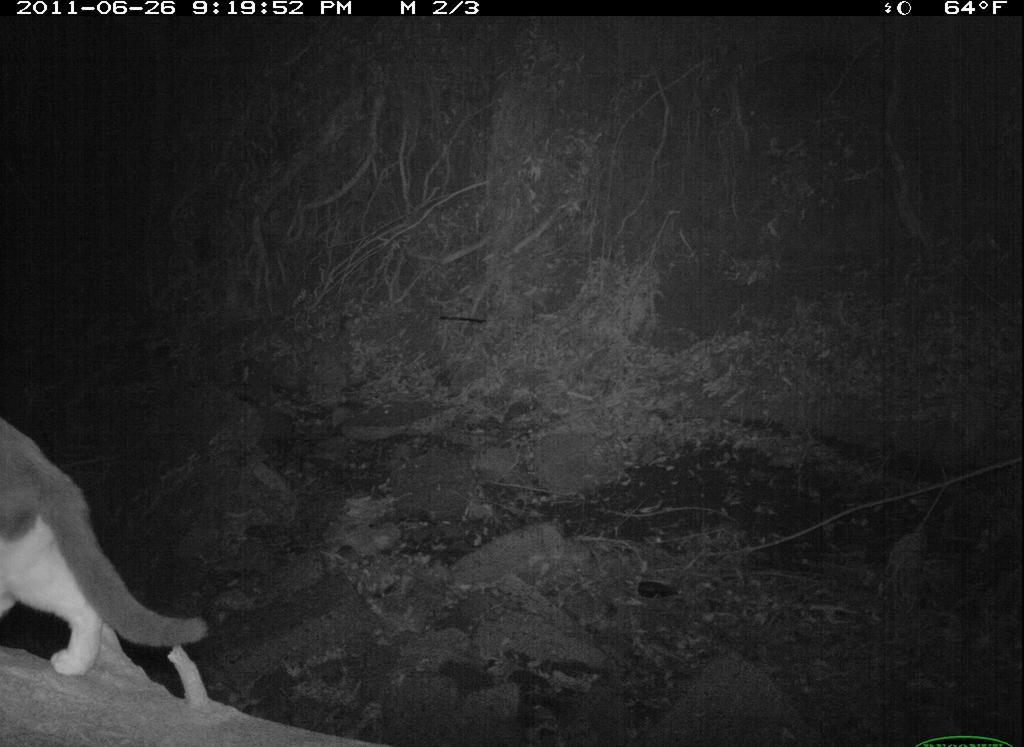cat: (1, 404, 219, 690)
